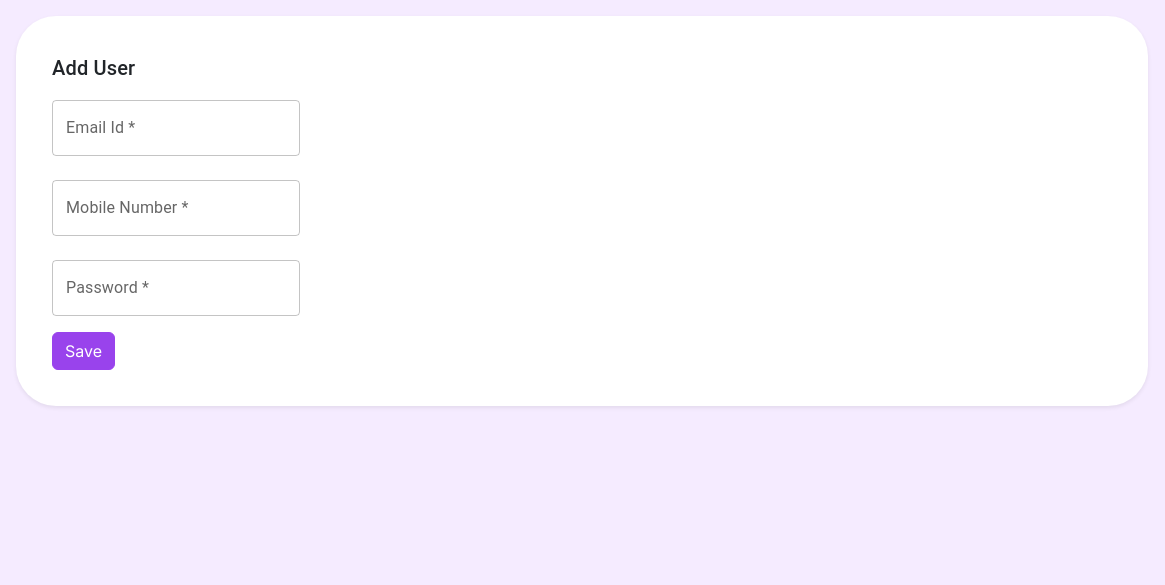
Test: SuperAdmin Component › validates password input correctly
The image size is (1165, 585).
In the field labelled "Password *": (176, 288) [52, 260, 300, 316], type "short"
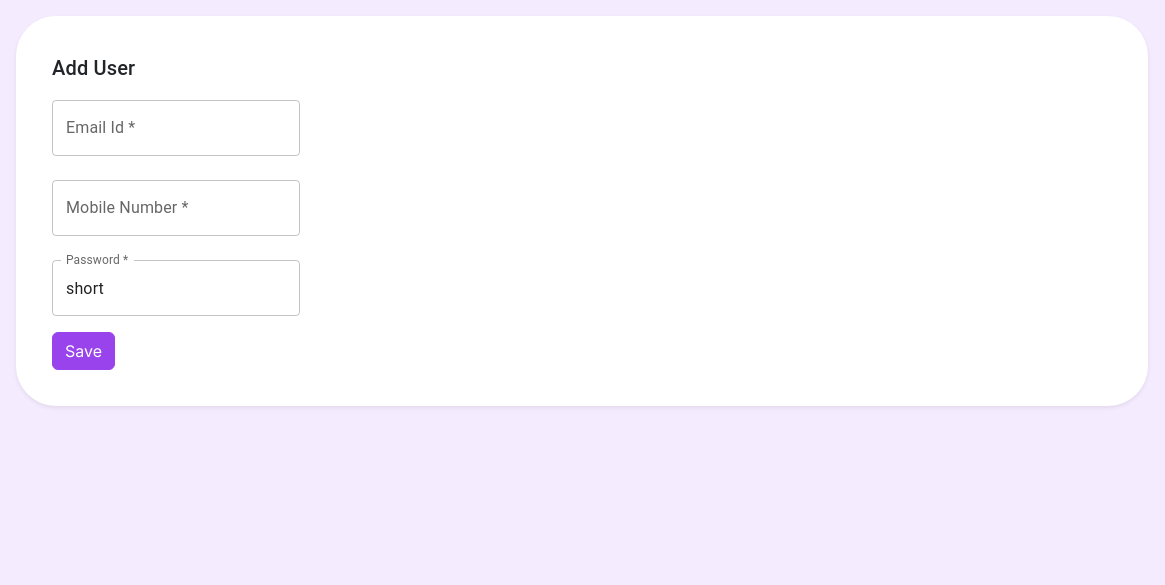
Click the button "Save": (84, 351) [52, 332, 115, 370]
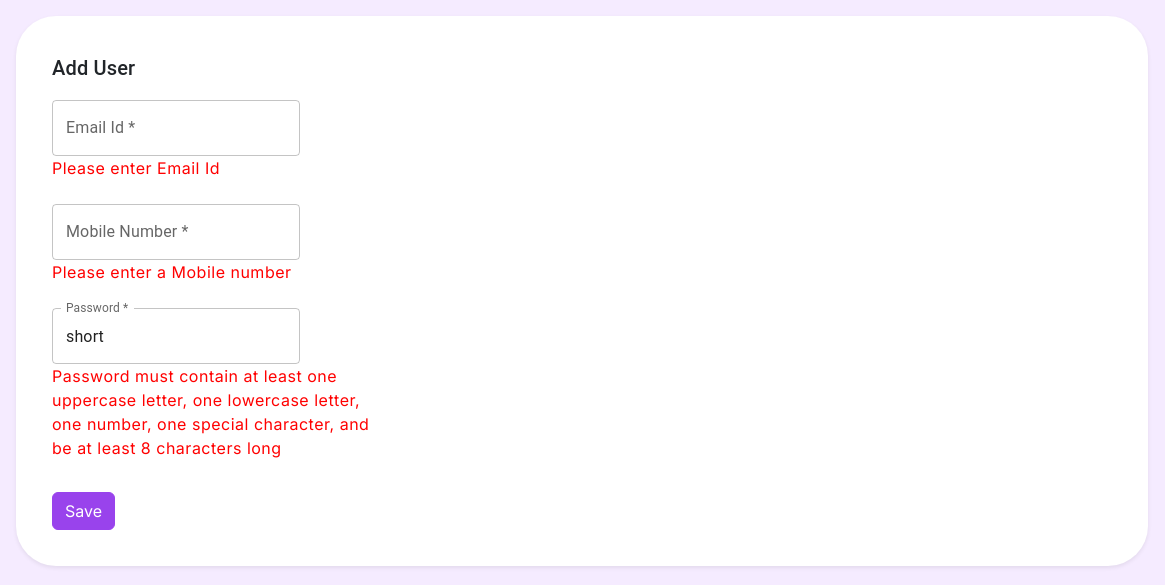
Check: the text "Password must contain at least one uppercase letter" is shown, box [52, 366, 369, 458]
